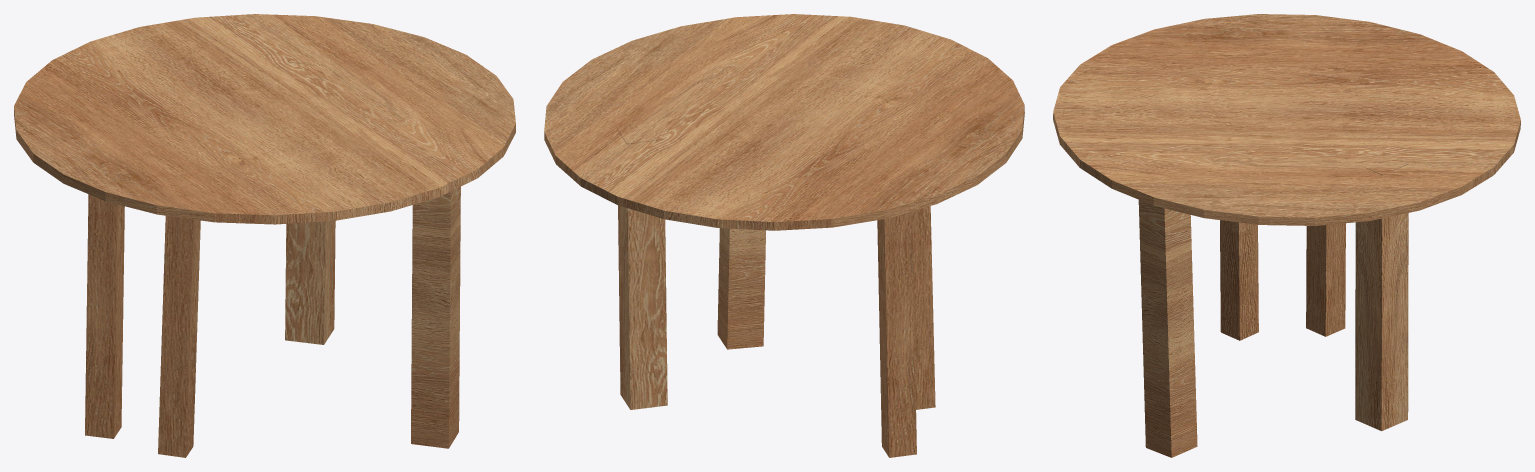
File: 24275_ours.glb
The picture shows the model from 3 angles, left to right: view 1: azimuth 30°, elevation 25°; view 2: azimuth 150°, elevation 25°; view 3: azimuth 270°, elevation 25°; orthographic projection. The views are drawn at different scales.
Visible parts, largest first — view 1: ParentEmpty; view 2: ParentEmpty; view 3: ParentEmpty.
Boxes of the visible parts, x1=… form: ParentEmpty: x1=14, y1=14, x2=515, y2=457; ParentEmpty: x1=544, y1=14, x2=1024, y2=457; ParentEmpty: x1=1053, y1=14, x2=1520, y2=457.
Bounding box in the file's own units: 0.9927 × 0.6801 × 1.
1 material, 1 textured.
